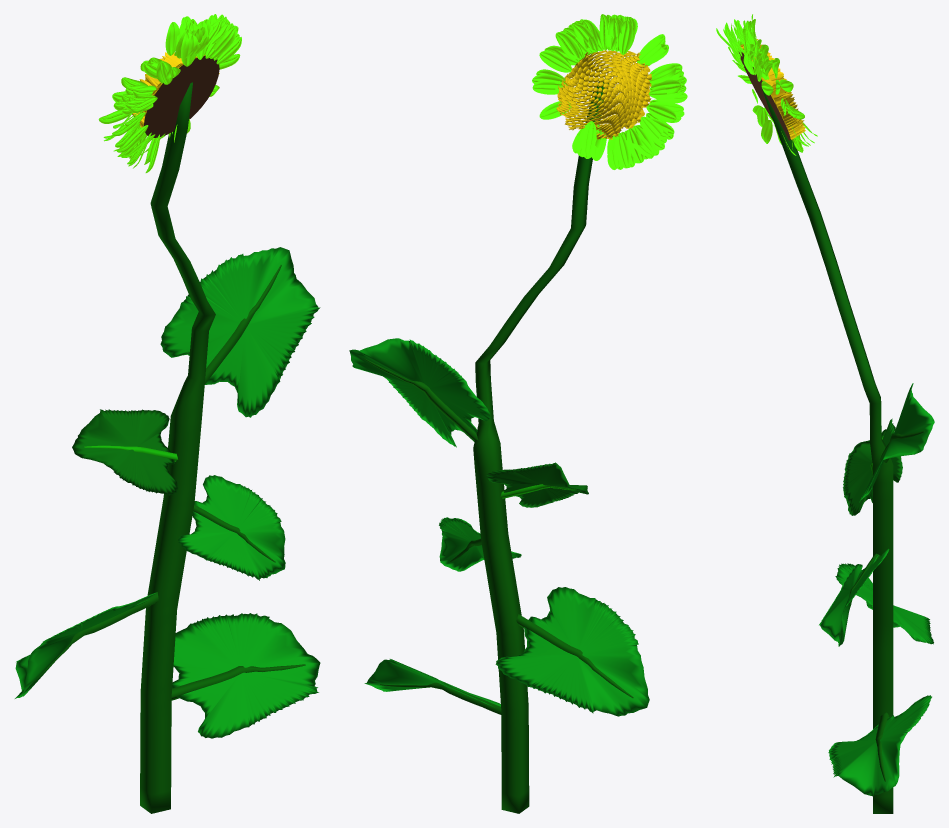
File: Tournesol_Croissance_2.fbx
3 renders of one model, left to right at view 1: azimuth 30°, elevation 25°; view 2: azimuth 150°, elevation 25°; view 3: azimuth 270°, elevation 25°, orthographic. The views are drawn at different scales.
Visible parts, largest first — view 1: Feuille.007, Feuille.010, Feuille.006, Feuille.009, Feuille.011, Circle, Feuille.008; view 2: Feuille.007, Feuille.008, Feuille.010, Icosphere, Feuille.011, Feuille.006, Feuille.009; view 3: Feuille.007, Feuille.006, Feuille.010, Feuille.011, Feuille.009, Feuille.008, Icosphere, Circle.
Boxes of the visible parts, x1,y1,x2,y2 form: Feuille.007: [140, 82, 215, 813]; Feuille.010: [160, 247, 320, 417]; Feuille.006: [171, 613, 320, 738]; Feuille.009: [178, 475, 285, 580]; Feuille.011: [72, 409, 178, 495]; Circle: [144, 56, 219, 137]; Feuille.008: [15, 592, 158, 698]; Feuille.007: [473, 82, 608, 813]; Feuille.008: [495, 587, 649, 716]; Feuille.010: [349, 338, 490, 447]; Icosphere: [556, 50, 651, 139]; Feuille.011: [486, 462, 588, 507]; Feuille.006: [364, 659, 501, 714]; Feuille.009: [439, 517, 521, 571]; Feuille.007: [762, 88, 893, 813]; Feuille.006: [828, 695, 931, 796]; Feuille.010: [859, 383, 934, 502]; Feuille.011: [843, 418, 902, 515]; Feuille.009: [819, 549, 889, 646]; Feuille.008: [835, 563, 933, 644]; Icosphere: [740, 39, 805, 140]; Circle: [738, 51, 790, 140].
Size of the model in its own units: 68.65 by 179 by 45.9.
